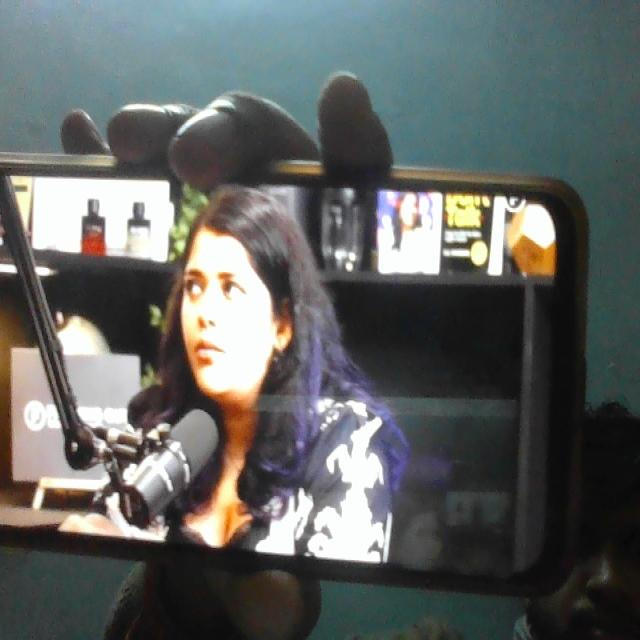fake: (162, 154, 302, 418)
